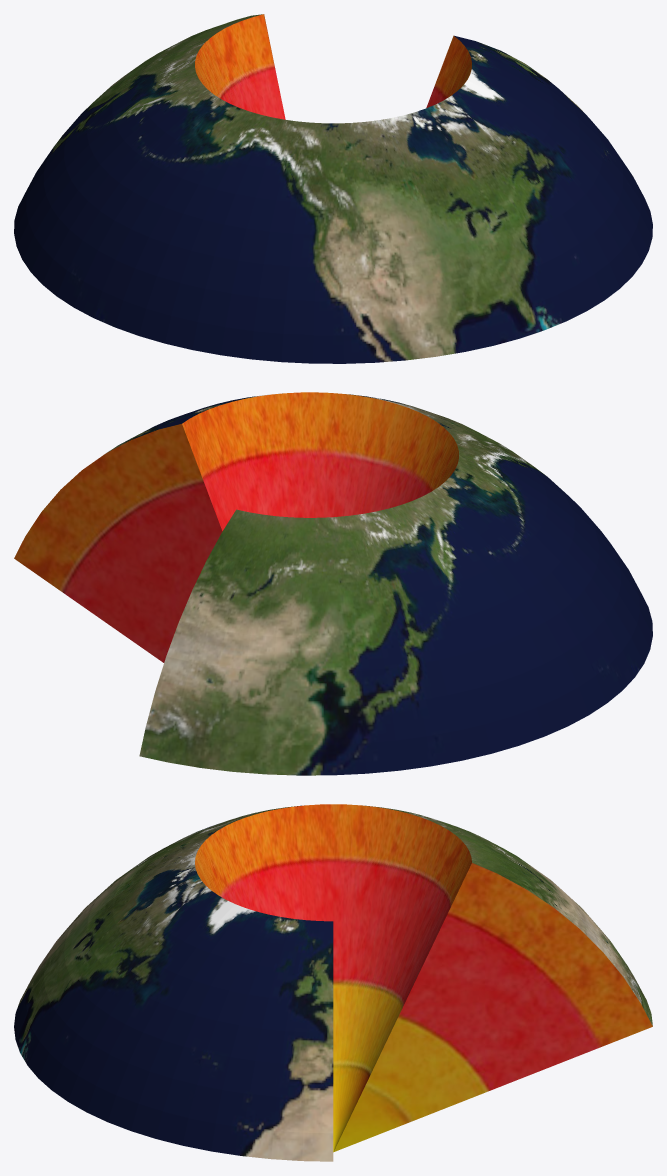
The model's file is 2_Hemi_norte_mid.glb.
3 views of the same model, one above another, from view 1: azimuth 30°, elevation 25°; view 2: azimuth 150°, elevation 25°; view 3: azimuth 270°, elevation 25° (orthographic). The views are drawn at different scales.
Parts seen in each view (by area): view 1: Hemi_norte_mid; view 2: Hemi_norte_mid; view 3: Hemi_norte_mid.
Boxes of the visible parts, x1,y1,x2,y2 form: Hemi_norte_mid: [14, 14, 652, 363]; Hemi_norte_mid: [14, 392, 652, 775]; Hemi_norte_mid: [14, 804, 652, 1161].
Size of the model in its own units: 9.17 by 4.58 by 9.17.
2 materials, 2 textured.
